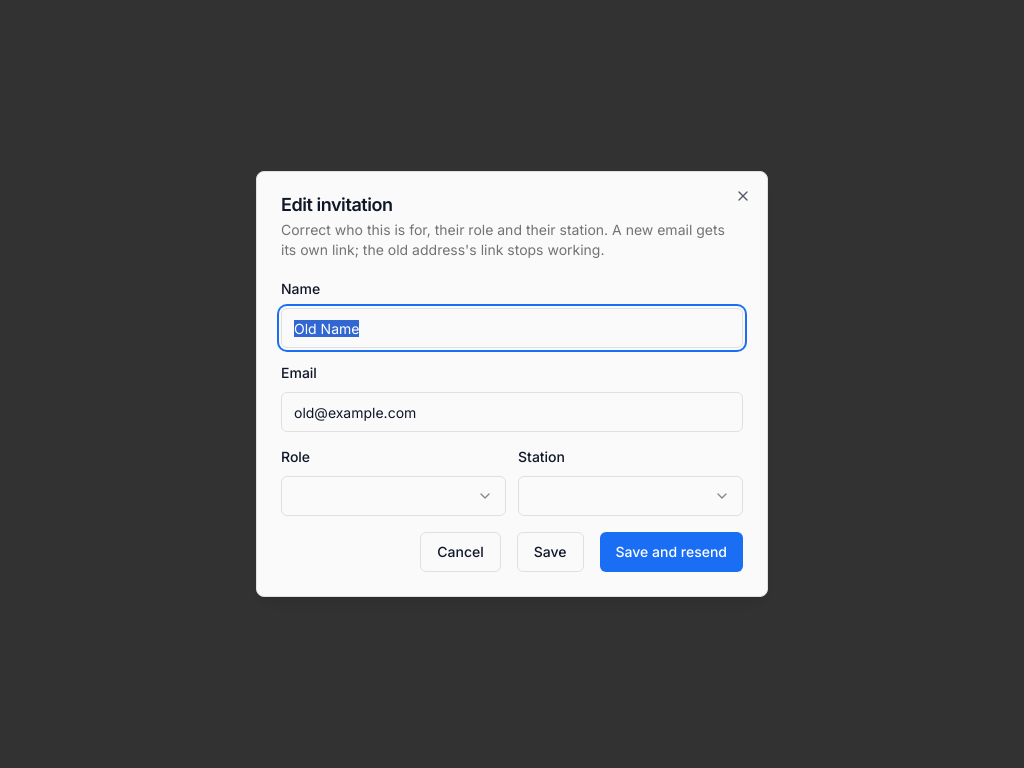
Test: editing an invitation › shows the API's message when the change is refused
Replace the text in the field labelled "Email" with "taken@example.com" at coordinates (512, 412), box x1=281 y1=392 x2=743 y2=432
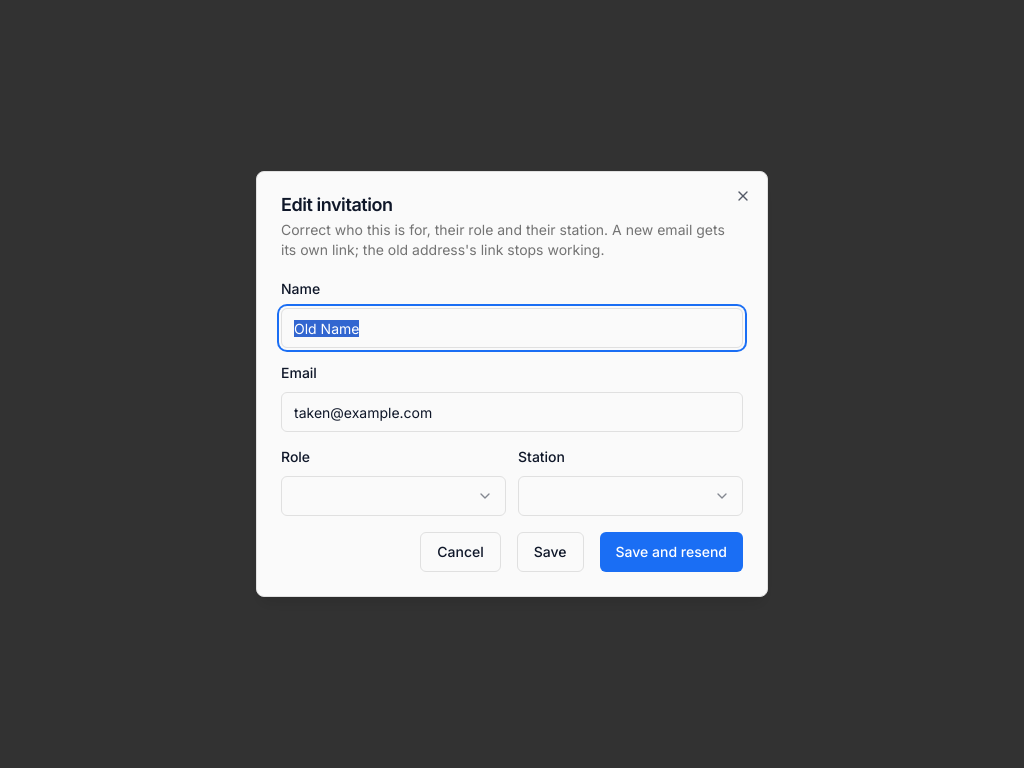
Click the button "Save and resend" at coordinates (671, 552), box x1=600 y1=532 x2=743 y2=572
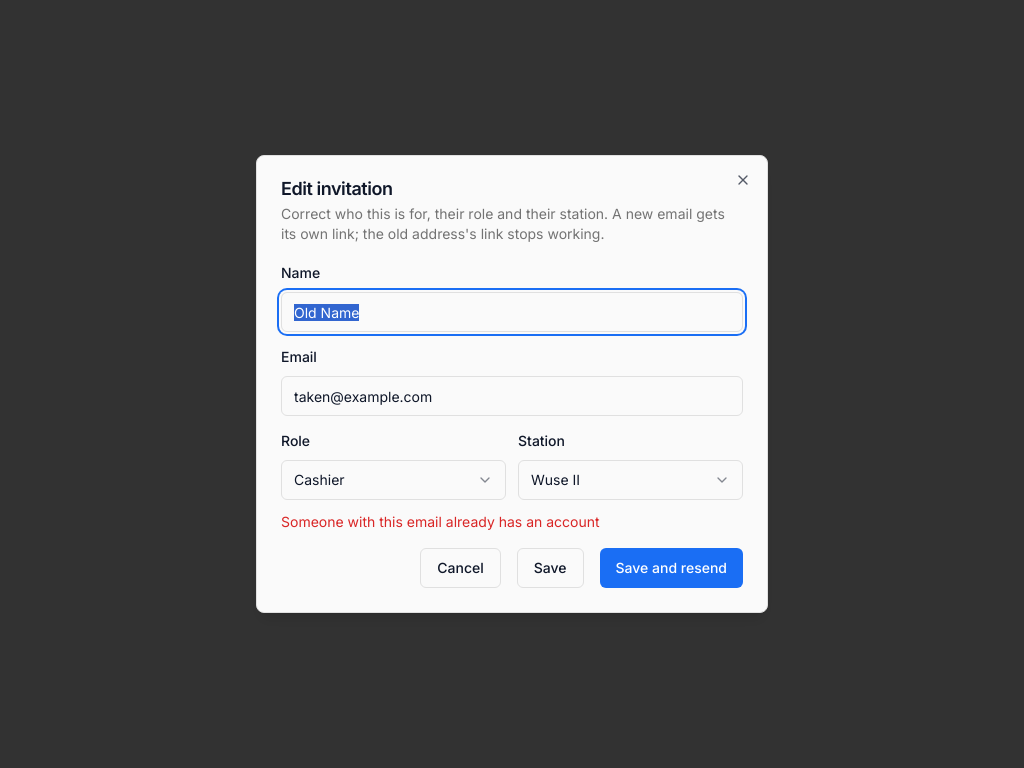
Result: the message shows "already has an account" at x1=281 y1=513 x2=600 y2=530
